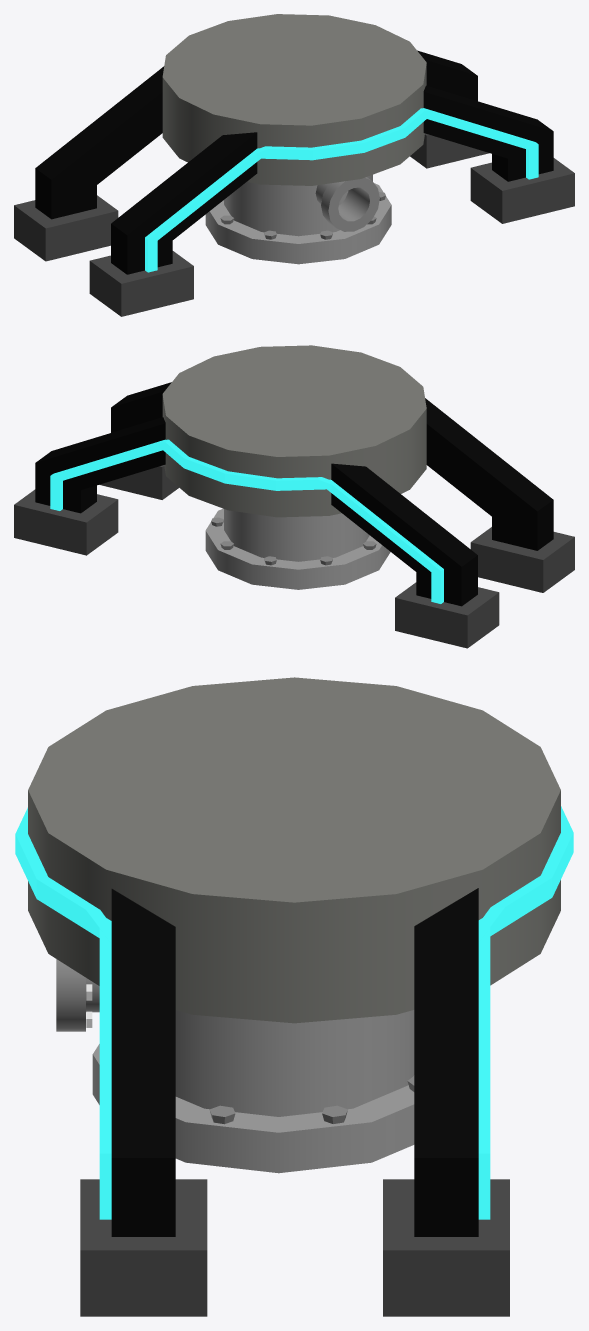
The model's file is well_pump.gltf.
The picture shows the model from 3 angles, top to bottom: view 1: azimuth 30°, elevation 25°; view 2: azimuth 150°, elevation 25°; view 3: azimuth 270°, elevation 25°; orthographic projection. The views are drawn at different scales.
Visible parts, largest first — view 1: top_0; view 2: top_0; view 3: top_0.
Part boxes in pixels (x1=…): top_0: x1=14, y1=14, x2=574, y2=316; top_0: x1=14, y1=345, x2=574, y2=648; top_0: x1=15, y1=677, x2=573, y2=1316.
Size of the model in its own units: 3.52 by 1.13 by 1.88.
